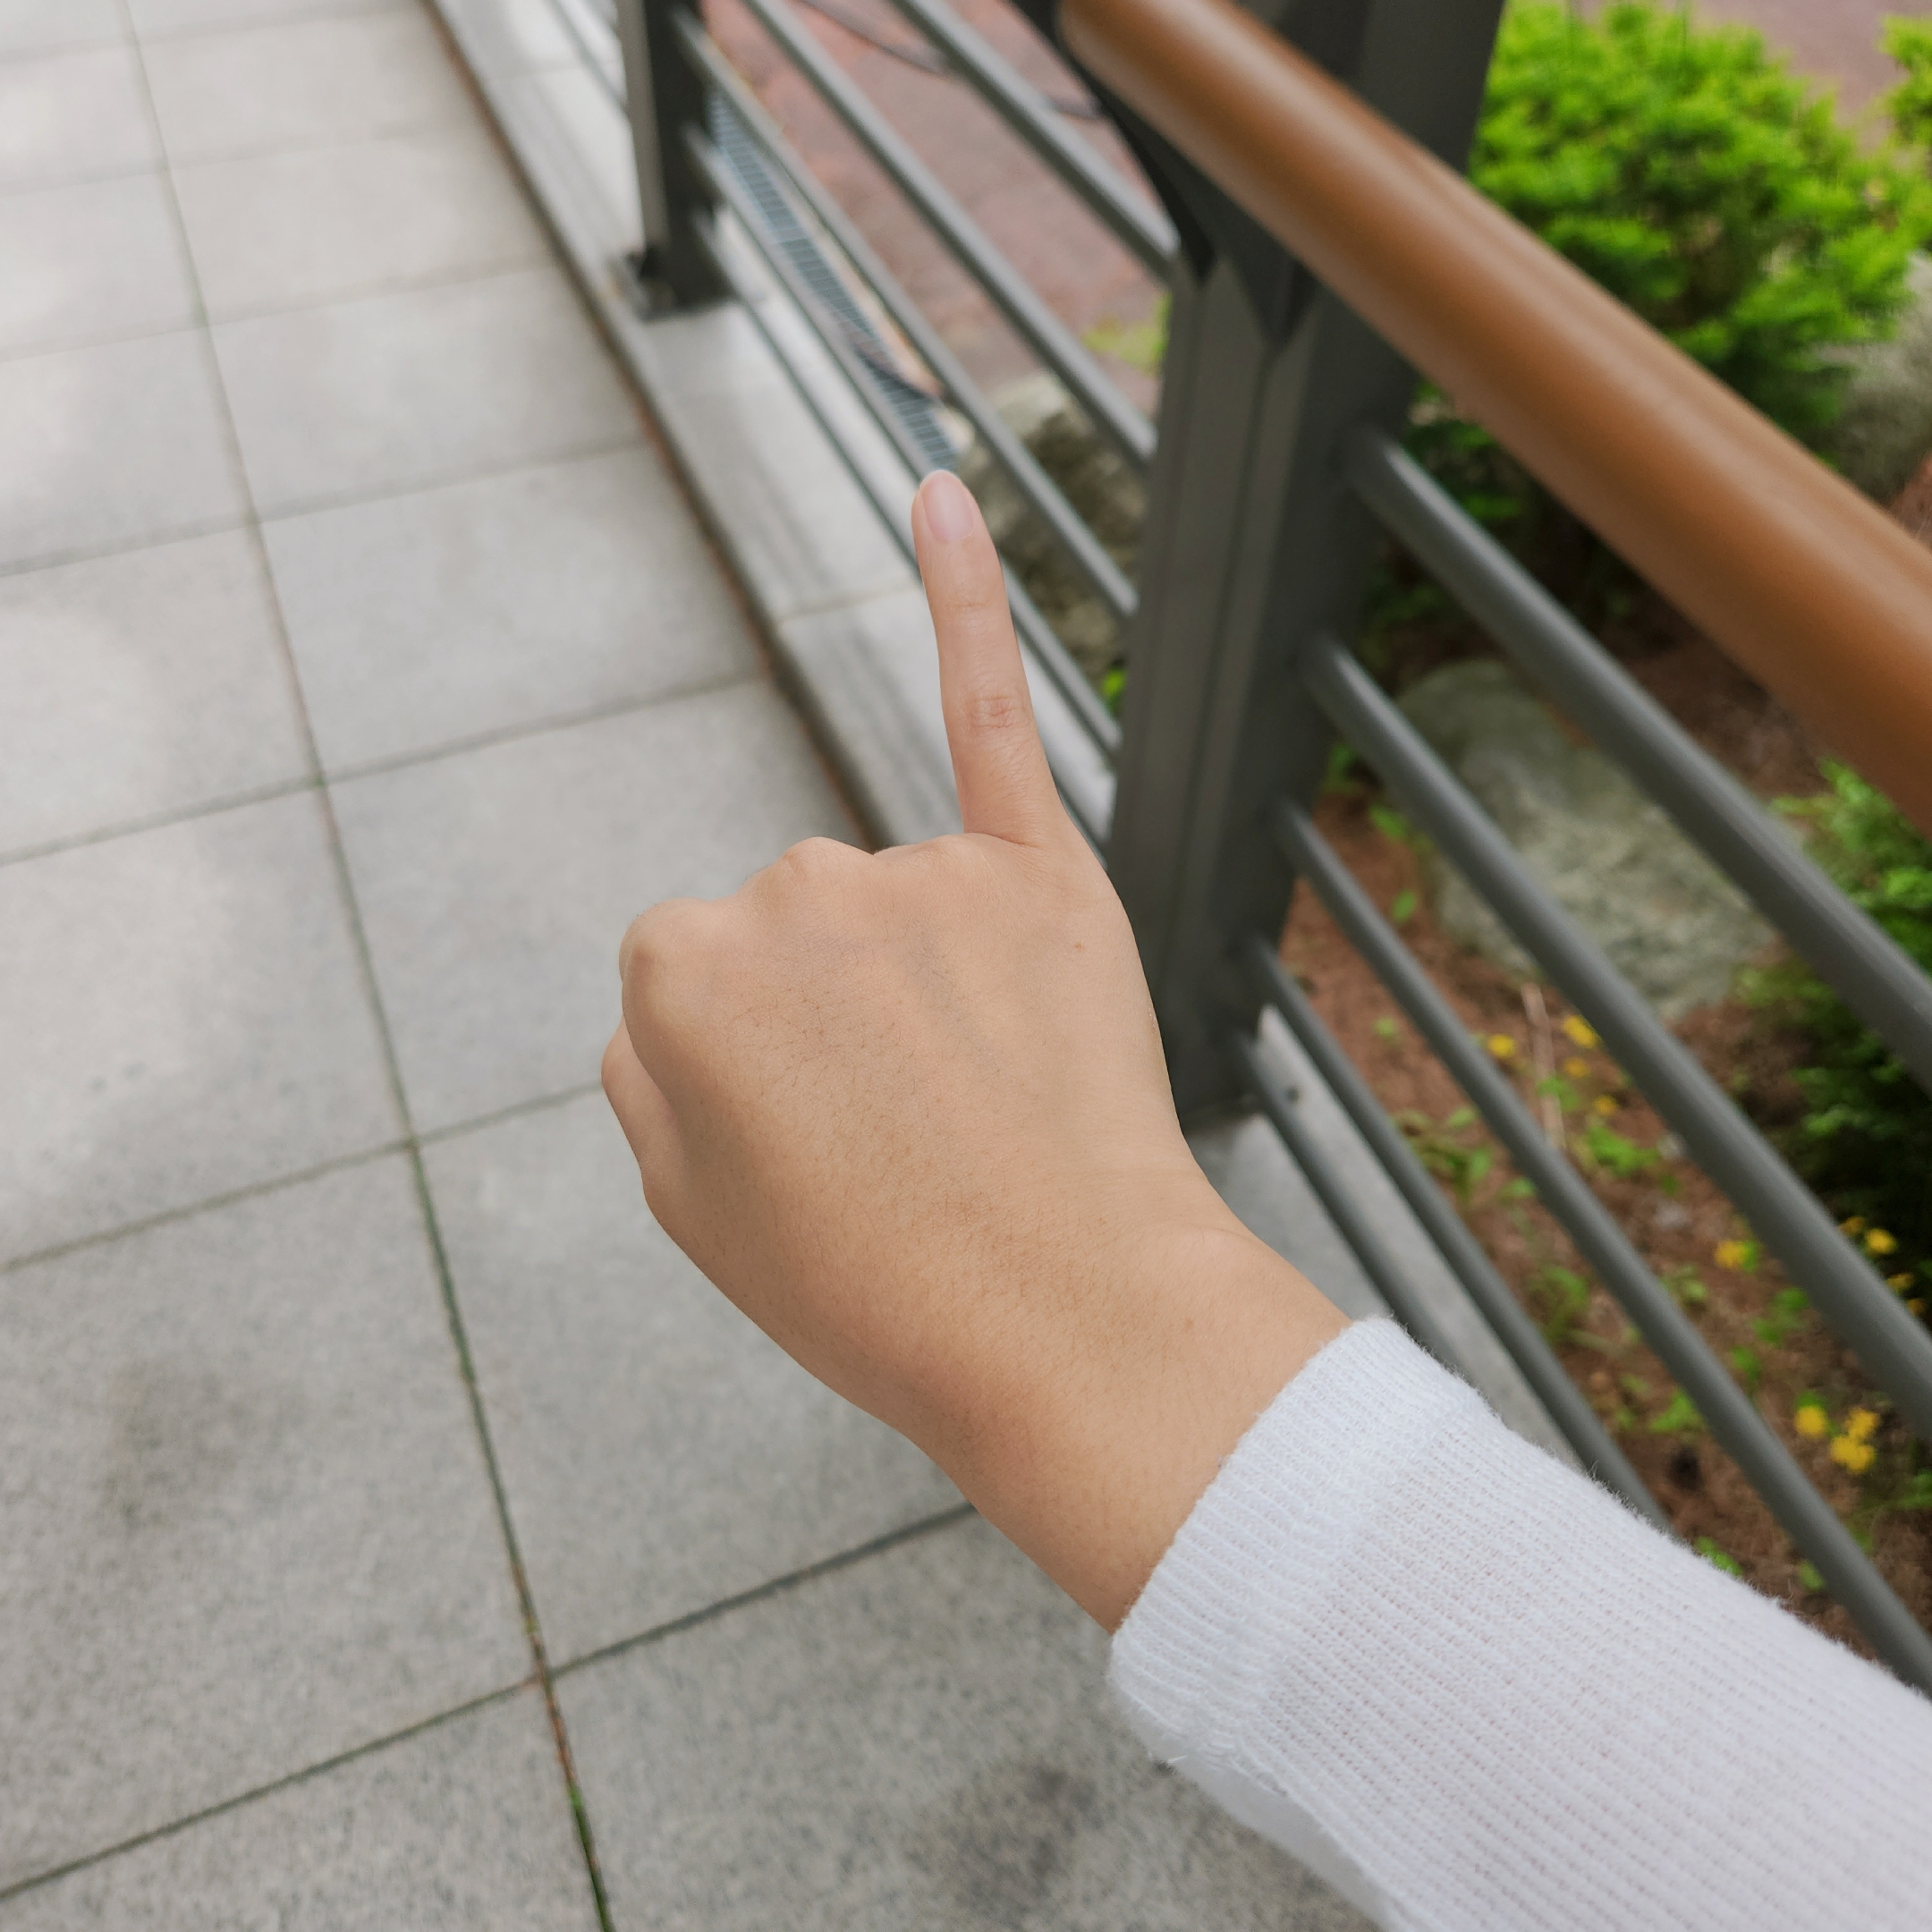fine: (603, 467, 1198, 1417)
